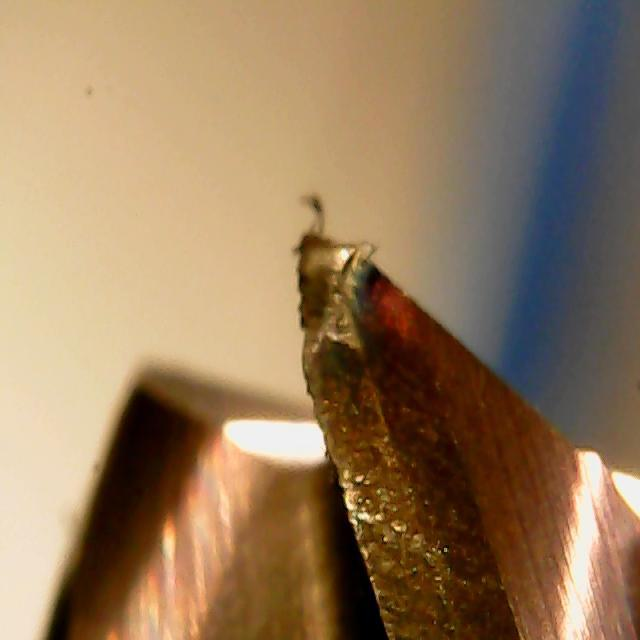Tool-wear-class-2: (276, 216, 440, 589)
